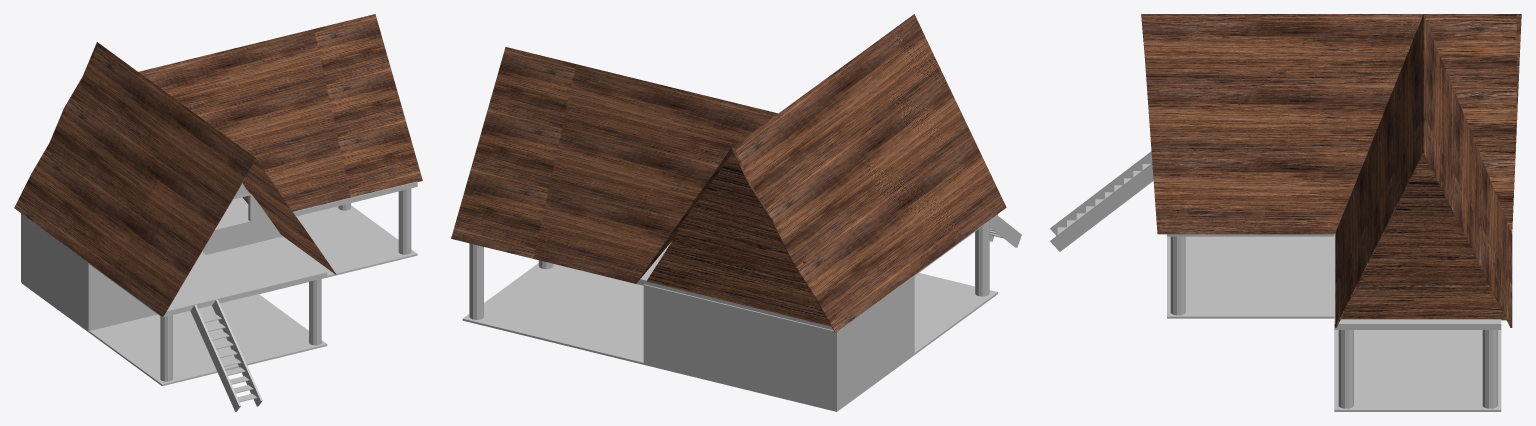
The model's file is tienda.fbx.
The picture shows the model from 3 angles, left to right: view 1: azimuth 30°, elevation 25°; view 2: azimuth 150°, elevation 25°; view 3: azimuth 270°, elevation 25°; orthographic projection. The views are drawn at different scales.
Parts seen in each view (by area): view 1: techo, Base0, Base2, Cube.002, Escaleras, Cube.003, Columna.001, Colmunma1, Columna2; view 2: techo, Cube.002, Base0, Cube, Base2, Columna.002, Colmunma1, Escaleras; view 3: techo, Base0, Cube.005, Escaleras, Base2, Columna2, Columna.001, Columna.002.
Boxes of the visible parts, x1,y1,x2,y2 form: techo: (14, 14, 422, 316); Base0: (22, 205, 417, 386); Base2: (89, 181, 417, 317); Cube.002: (21, 213, 157, 331); Escaleras: (190, 299, 262, 411); Cube.003: (203, 195, 282, 255); Columna.001: (398, 188, 411, 254); Colmunma1: (160, 315, 172, 381); Columna2: (309, 278, 321, 345); techo: (451, 14, 1006, 332); Cube.002: (643, 275, 914, 411); Base0: (462, 263, 997, 411); Cube: (646, 152, 830, 326); Base2: (636, 214, 997, 330); Columna.002: (469, 243, 483, 319); Colmunma1: (975, 221, 989, 296); Escaleras: (989, 215, 1021, 247); techo: (1141, 14, 1521, 327); Base0: (1167, 236, 1501, 411); Cube.005: (1341, 153, 1506, 320); Escaleras: (1050, 151, 1153, 251); Base2: (1167, 233, 1501, 329); Columna2: (1170, 236, 1185, 315); Columna.001: (1338, 330, 1353, 408); Columna.002: (1482, 330, 1497, 408).
Bounding box in the file's own units: 1798 × 1106 × 1838.
